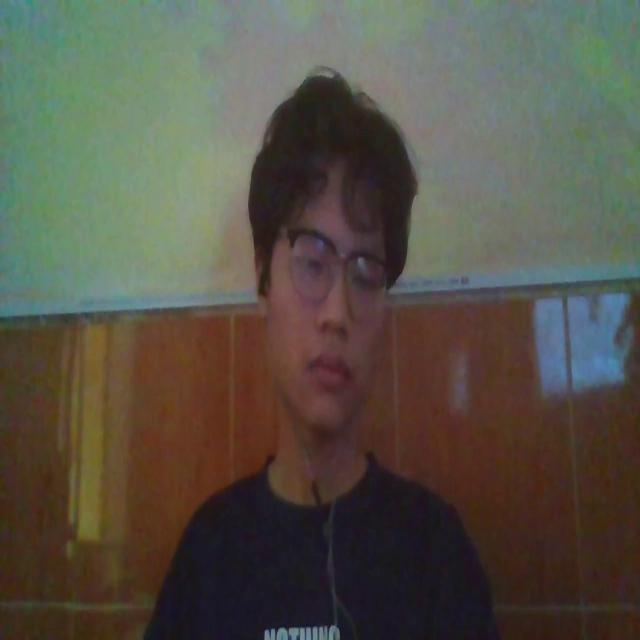student: (139, 68, 495, 640)
